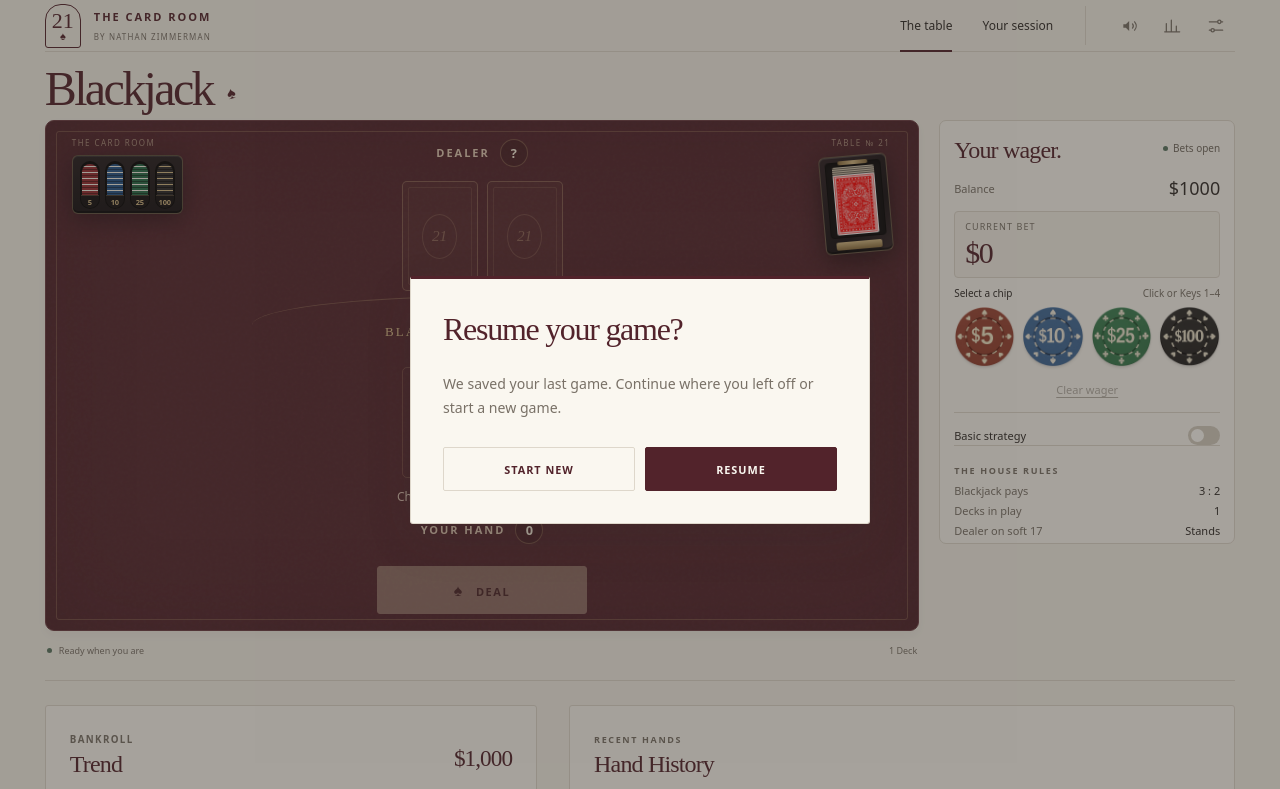
Test: BlackjackGame › delays outcome badges until dealer reveal animation completes
expect the heading "Resume your game?" is shown: met, box [443,311,682,347]
Click the button "Resume": {"x": 741, "y": 469} [645,447,837,491]
Wait 5700 ms
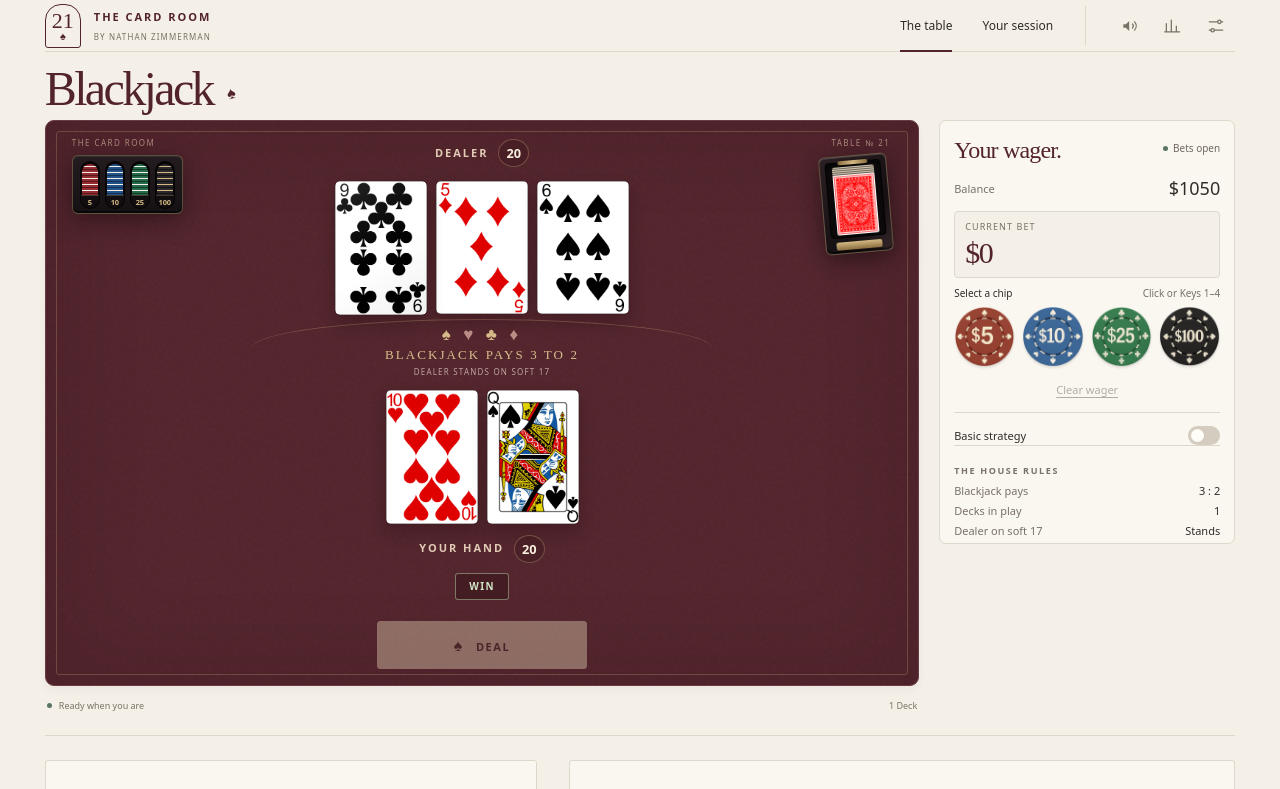
expect the text "WIN" is shown: met, box [455,573,509,600]
